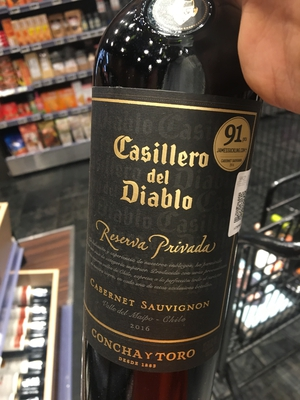casillero del diablo reserva privada cabernet sauvignon: (82, 20, 280, 392)
